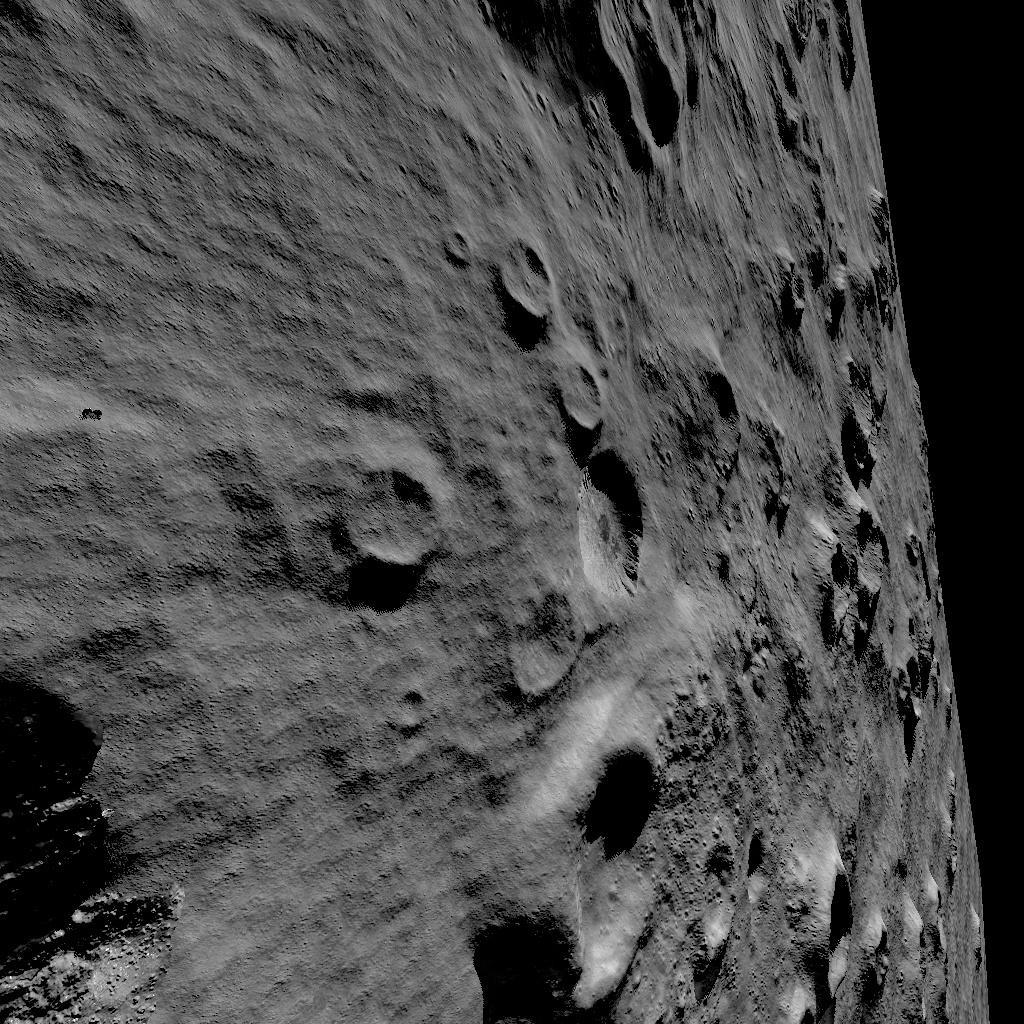Boulders: (0, 635, 213, 1024)
Crater: (494, 715, 688, 1024), (514, 232, 676, 598), (841, 355, 973, 740), (511, 0, 738, 170), (816, 855, 978, 1022), (694, 342, 806, 546), (776, 190, 903, 328), (766, 0, 875, 160), (701, 832, 785, 1024), (341, 460, 443, 573)
Plan surface: (190, 0, 496, 448), (228, 618, 480, 1024), (0, 460, 213, 620)
